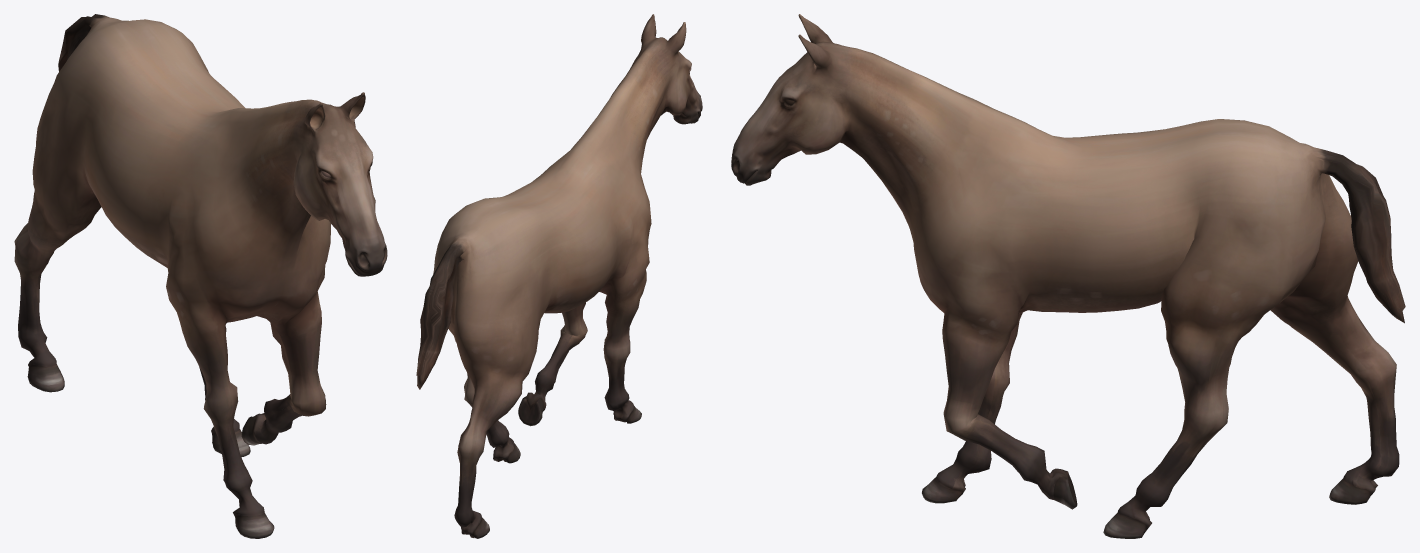
File: horse_walk.glb
3 views of the same model, side by side, from view 1: azimuth 30°, elevation 25°; view 2: azimuth 150°, elevation 25°; view 3: azimuth 270°, elevation 25° (orthographic). The views are drawn at different scales.
Parts seen in each view (by area): view 1: HorseShape; view 2: HorseShape; view 3: HorseShape.
Boxes of the visible parts, box(x1,y1,x2,y2) form: HorseShape: box(14, 14, 387, 538); HorseShape: box(416, 14, 702, 538); HorseShape: box(731, 14, 1405, 538).
Size of what is drawn, in the model's own units: 6.6 by 19.41 by 24.59.
Materials: 1 (1 with a texture image).
